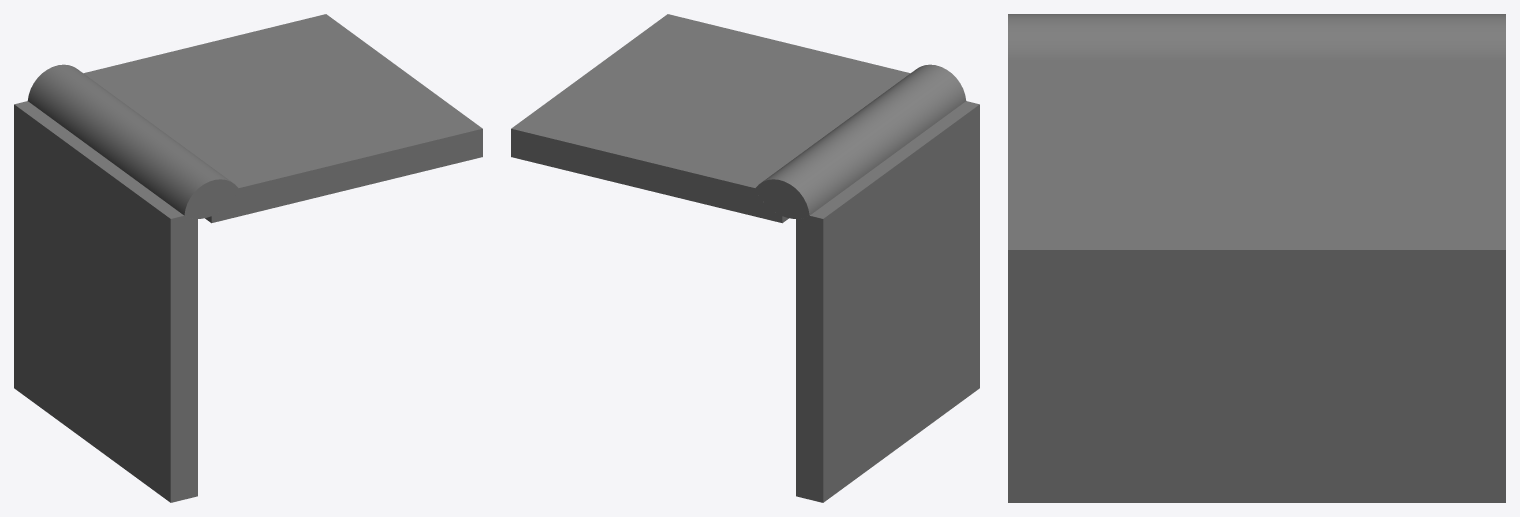
The picture shows the model from 3 angles, left to right: view 1: azimuth 30°, elevation 25°; view 2: azimuth 150°, elevation 25°; view 3: azimuth 270°, elevation 25°; orthographic projection. The views are drawn at different scales.
Parts seen in each view (by area): view 1: mesh_id4, mesh_id5; view 2: mesh_id4, mesh_id5; view 3: mesh_id4, mesh_id5.
Boxes of the visible parts, x1,y1,x2,y2 form: mesh_id4: [14, 14, 482, 502]; mesh_id5: [27, 64, 238, 218]; mesh_id4: [511, 14, 979, 502]; mesh_id5: [755, 64, 966, 218]; mesh_id4: [1008, 60, 1505, 502]; mesh_id5: [1008, 14, 1505, 60].
Size of the model in its own units: 0.512 by 0.4897 by 0.4452.
Materials: 2 (2 with a texture image).
